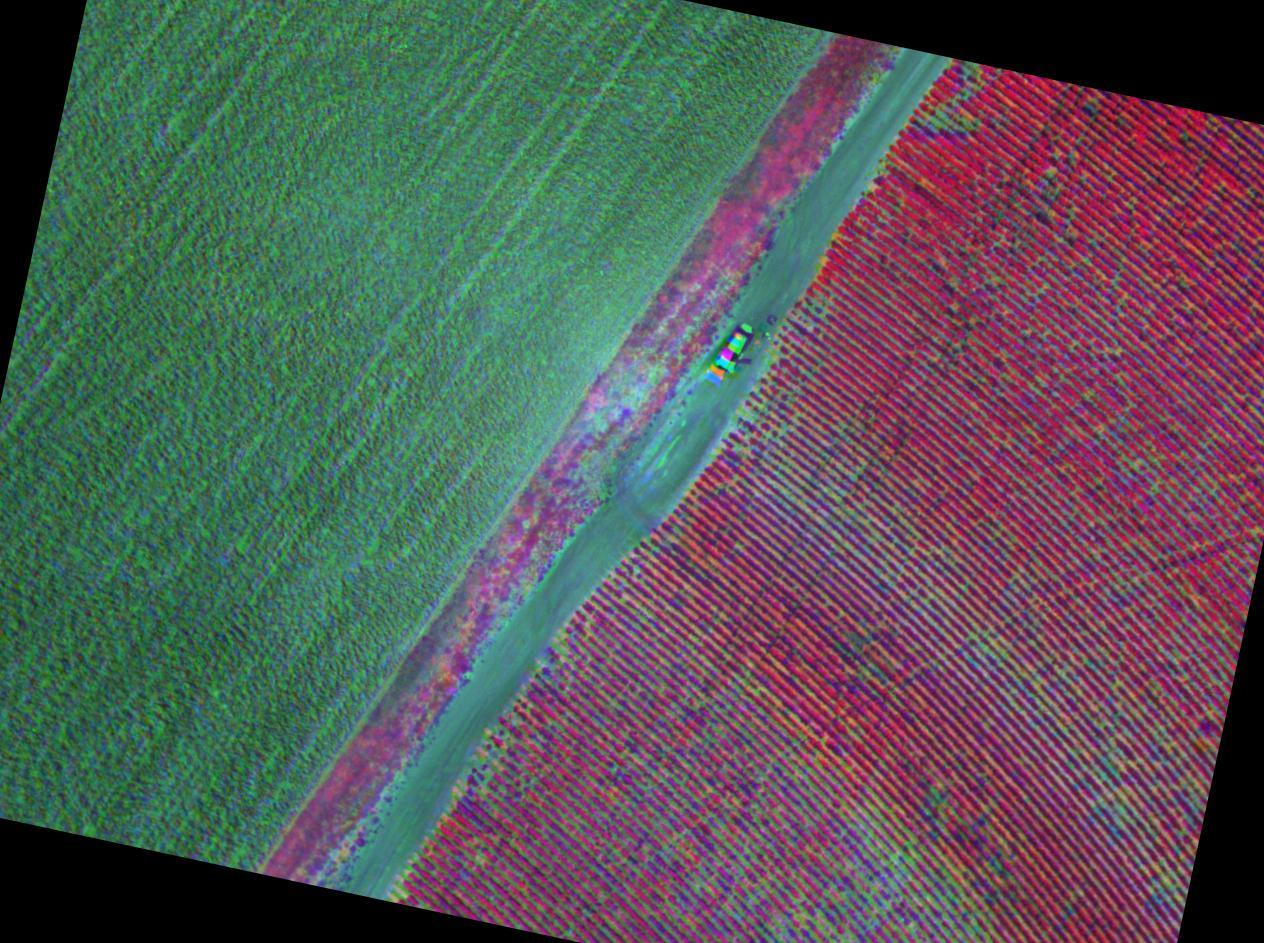dc: (806, 305, 814, 312), (780, 426, 785, 434), (1117, 349, 1121, 353)
